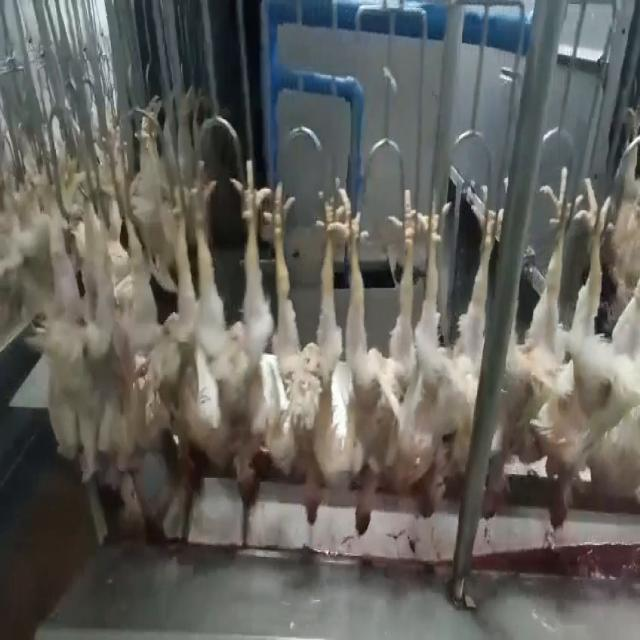chicken: (386, 178, 499, 515), (479, 158, 582, 513), (538, 175, 637, 532), (327, 182, 424, 535), (175, 151, 266, 512), (261, 172, 336, 529), (103, 161, 175, 475), (50, 176, 104, 481)
